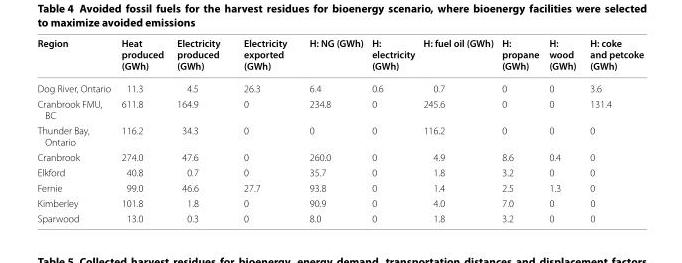table: (36, 36, 643, 223)
table column: (36, 36, 115, 223), (418, 36, 497, 223), (297, 36, 366, 223), (231, 36, 297, 223), (169, 36, 231, 223), (582, 36, 643, 223), (115, 36, 169, 223), (366, 36, 418, 223), (497, 36, 543, 223), (543, 36, 582, 223)
table column header: (36, 36, 643, 76)
table row: (36, 36, 643, 76), (36, 95, 643, 122), (36, 122, 643, 149), (36, 76, 643, 95), (36, 179, 643, 195), (36, 149, 643, 164), (36, 164, 643, 179), (36, 195, 643, 210), (36, 210, 643, 223)
